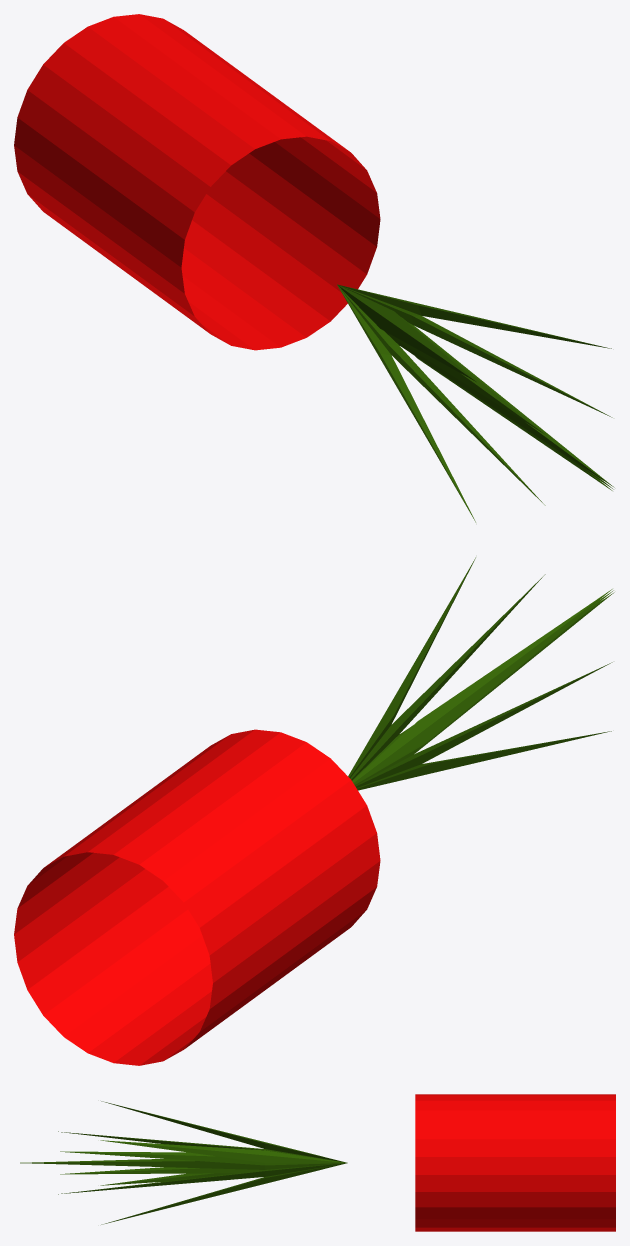
File: Perennao50cm.obj
3 views of the same model, one above another, from view 1: azimuth 30°, elevation 25°; view 2: azimuth 150°, elevation 25°; view 3: azimuth 270°, elevation 25° (orthographic). The views are drawn at different scales.
Bounding box in the file's own units: 0.2058 × 0.2058 × 0.9.
